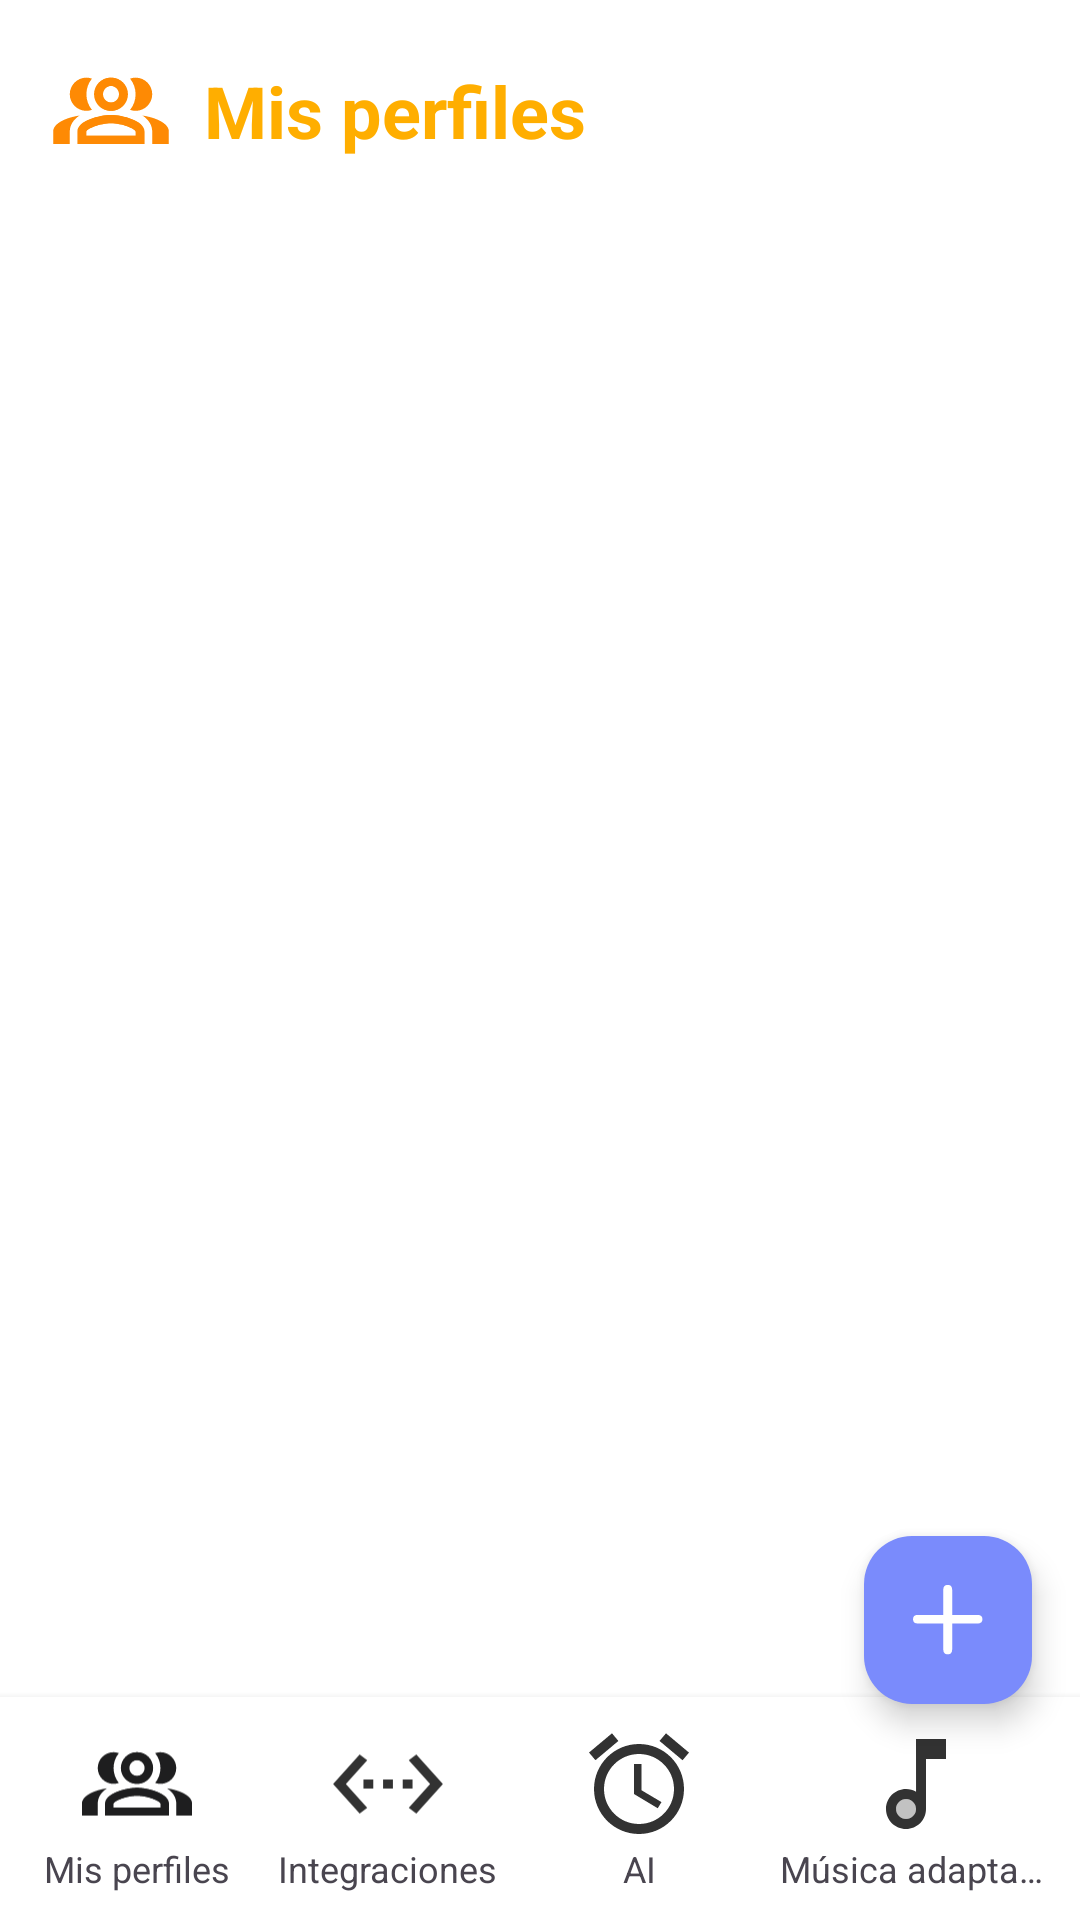

Named icons in this screenshot (1080 x 1920) and their bounding boxes, (x1, y1, x2, y2):
addbtn: (864, 1536, 1032, 1704)
